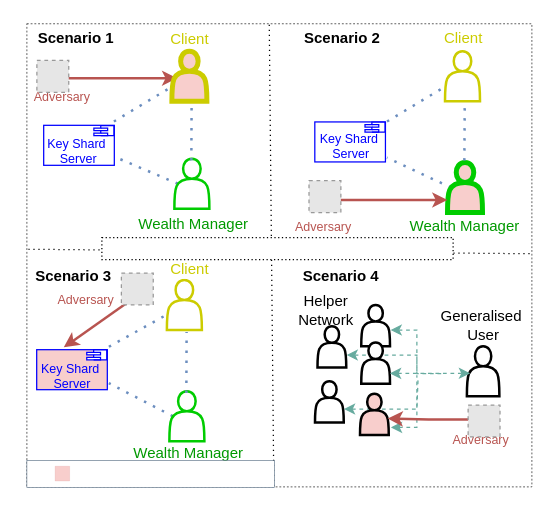
Some shapes in this 558 by 509 pixel diagram are drawn without their labels. Grey dashed boxes stand in for pictures. The shapes that lost their labels are listed below. From the top down, each one's box as (x1, y1, x2, y2) in pixels, then its label:
(101, 236, 453, 260): In all scenarios, system is not compromised.
(26, 460, 274, 487): Compromised Party
